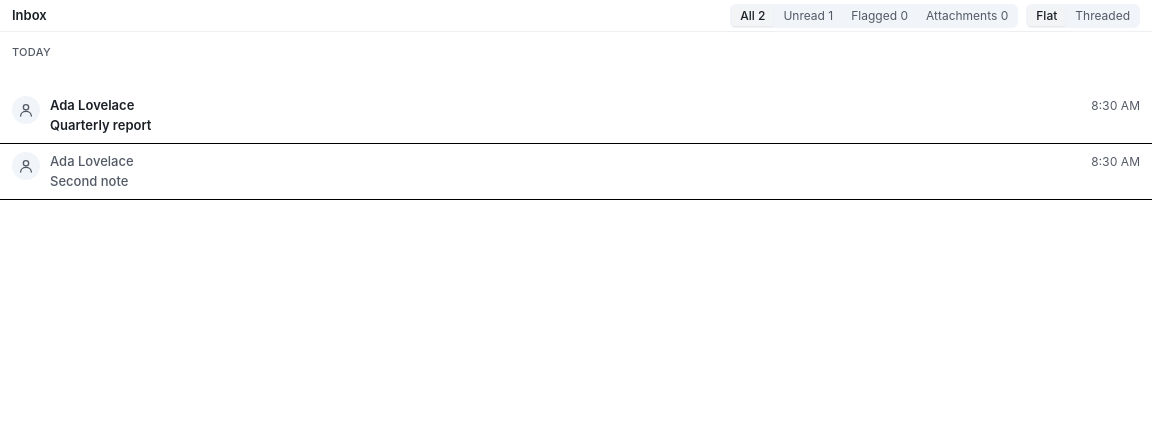
the row context menu › opens on right-click with the clicked row as the target
Right-click the option "Ada Lovelace 8:30 AM Second note" at (92, 161), box [0, 144, 1151, 200]
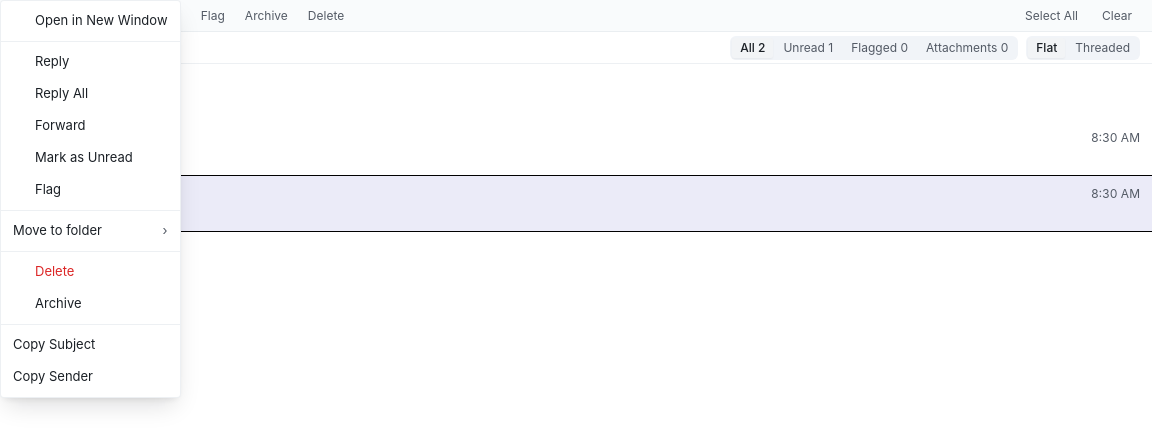
Check: the menu is shown, box [1, 5, 180, 393]
Check: the menu item "Archive" is shown, box [35, 295, 82, 311]
Check: the menu item "Delete" is shown, box [35, 263, 74, 279]
